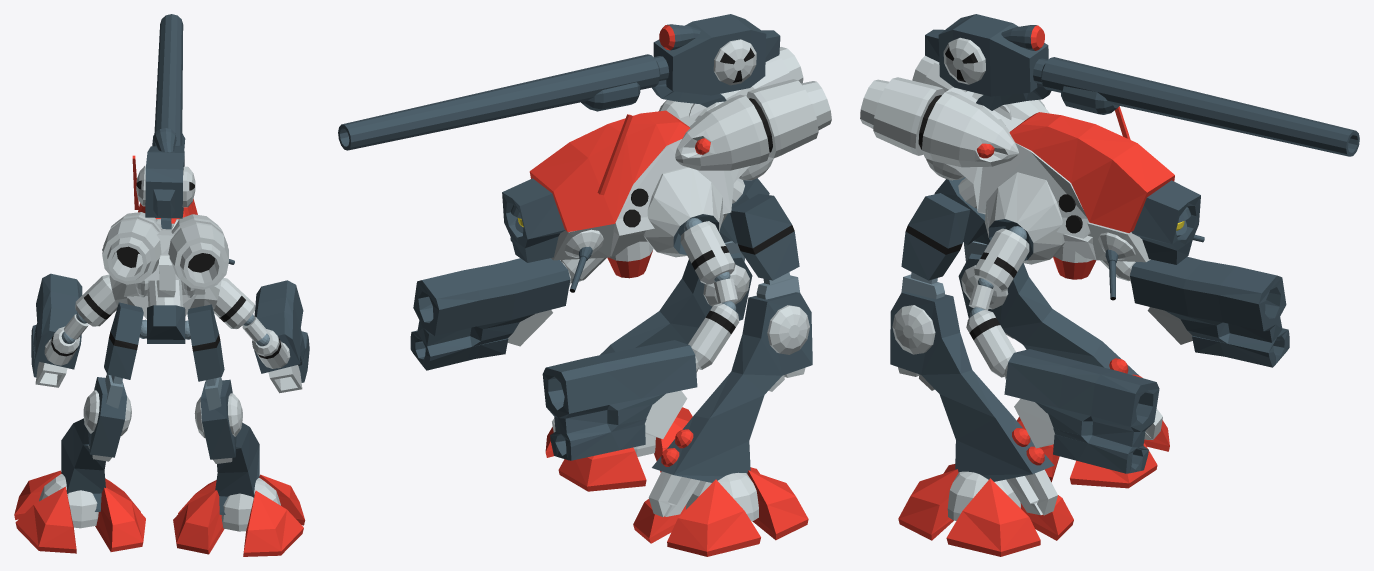
The model's file is scene_cp0MBVMdjI.glb.
3 renders of one model, left to right at view 1: azimuth 30°, elevation 25°; view 2: azimuth 150°, elevation 25°; view 3: azimuth 270°, elevation 25°, orthographic. The views are drawn at different scales.
Parts seen in each view (by area): view 1: group1989965731, group1252035448, group1832106782, group224830677, group1644946583, group58765246, group841152996, group893005595, group81230621, group1538724001, group965854648, group1092948607 (+1 smaller); view 2: group1989965731, group1832106782, group1644946583, group224830677, group841152996, group1283648131, group1252035448, group1178872071, group784989995, group81230621, group58765246, group1098250012 (+4 smaller); view 3: group1252035448, group1832106782, group224830677, group1644946583, group1283648131, group58765246, group1989965731, group1092948607, group784989995, group81230621, group841152996, group893005595 (+3 smaller).
Part boxes in pixels (x1,y1,x2,y2): group1989965731: (14, 302, 146, 553); group1252035448: (173, 304, 305, 556); group1832106782: (136, 14, 195, 229); group224830677: (213, 278, 309, 393); group1644946583: (31, 273, 117, 387); group58765246: (168, 214, 228, 289); group841152996: (102, 212, 161, 284); group893005595: (147, 305, 185, 343); group81230621: (123, 223, 205, 296); group1538724001: (156, 254, 175, 297); group965854648: (147, 280, 183, 306); group1092948607: (187, 280, 221, 313); group1989965731: (633, 193, 812, 556); group1832106782: (338, 14, 780, 150); group1644946583: (542, 217, 739, 460); group224830677: (410, 257, 606, 370); group841152996: (675, 79, 831, 170); group1283648131: (529, 110, 690, 232); group1252035448: (545, 232, 752, 491); group1178872071: (643, 167, 723, 257); group784989995: (502, 178, 565, 262); group81230621: (613, 87, 754, 235); group58765246: (659, 47, 803, 118); group1098250012: (607, 241, 653, 278); group1252035448: (890, 193, 1073, 556); group1832106782: (925, 14, 1359, 156); group224830677: (966, 226, 1159, 473); group1644946583: (1100, 256, 1289, 367); group1283648131: (1009, 112, 1174, 232); group58765246: (860, 77, 1018, 167); group1989965731: (958, 231, 1169, 488); group1092948607: (984, 172, 1064, 264); group784989995: (1131, 180, 1200, 264); group81230621: (945, 87, 1090, 238); group841152996: (912, 55, 1049, 120); group893005595: (934, 177, 986, 245).
Size of the model in its own units: 1.09 by 1.36 by 1.32.
